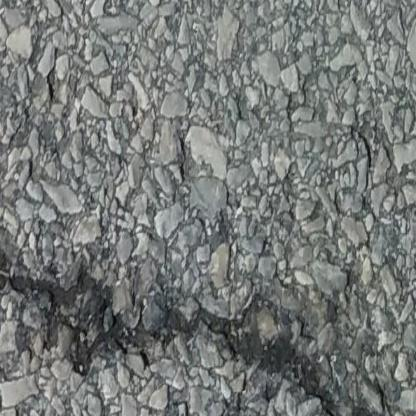Cracks: (0, 243, 387, 416)
